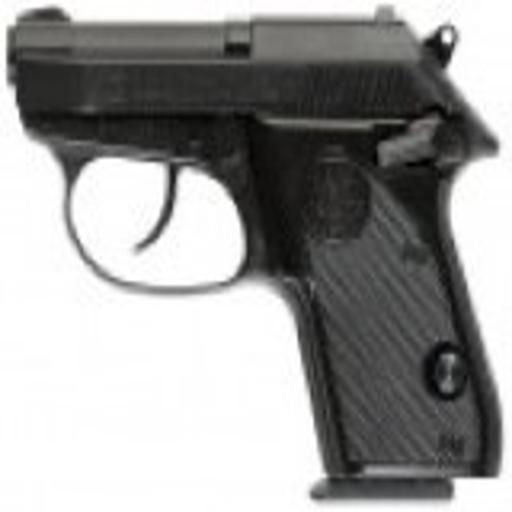Handgun: (2, 3, 501, 498)
